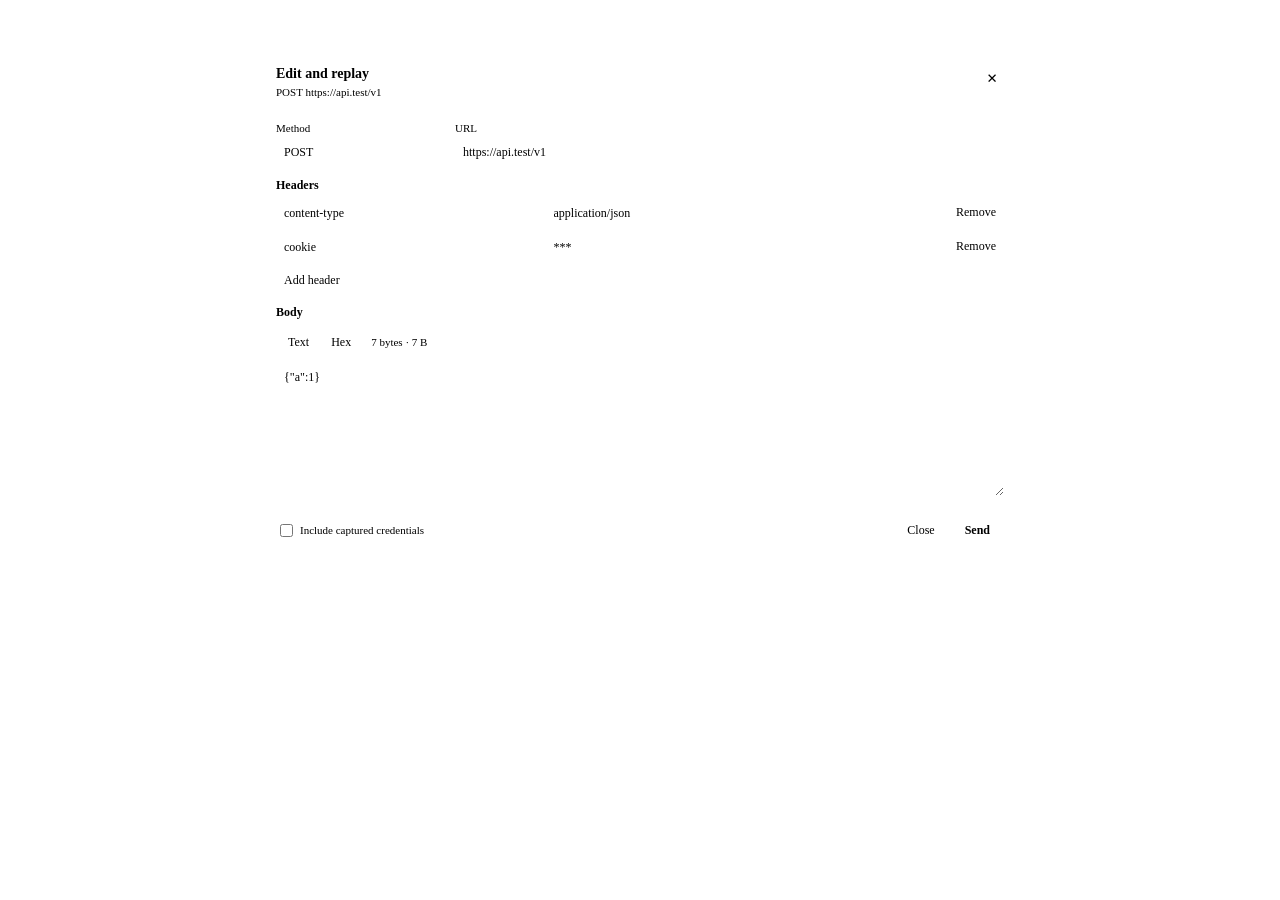
Test: ReplayEditor › sends the edited fields as overrides and reports the outcome
Replace the text in the field named "Header 1 value" with "text/plain" at [744, 213], box x1=546 y1=199 x2=942 y2=227
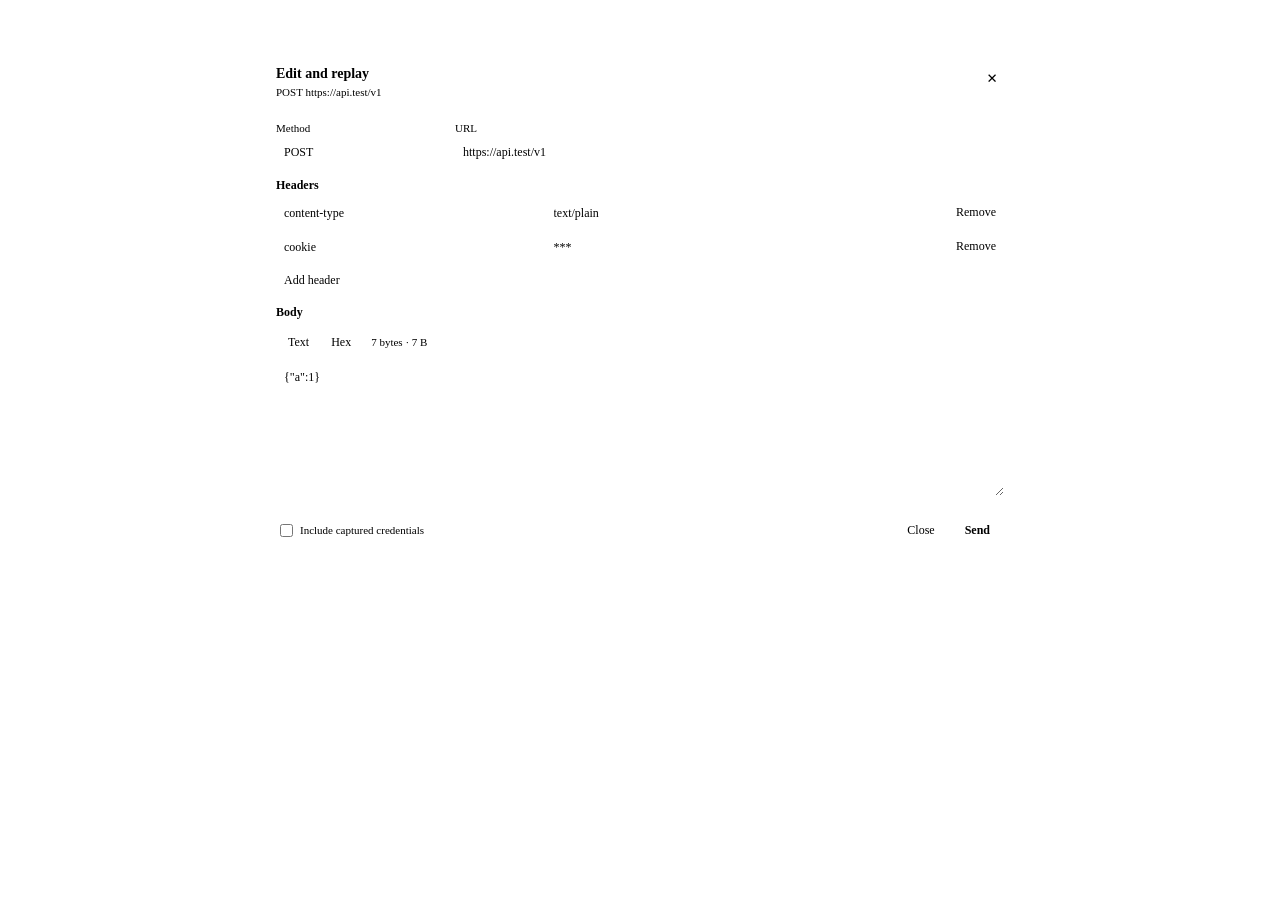
Click the button with aria-label "Remove header cookie" at [976, 246], box x1=948 y1=233 x2=1004 y2=259
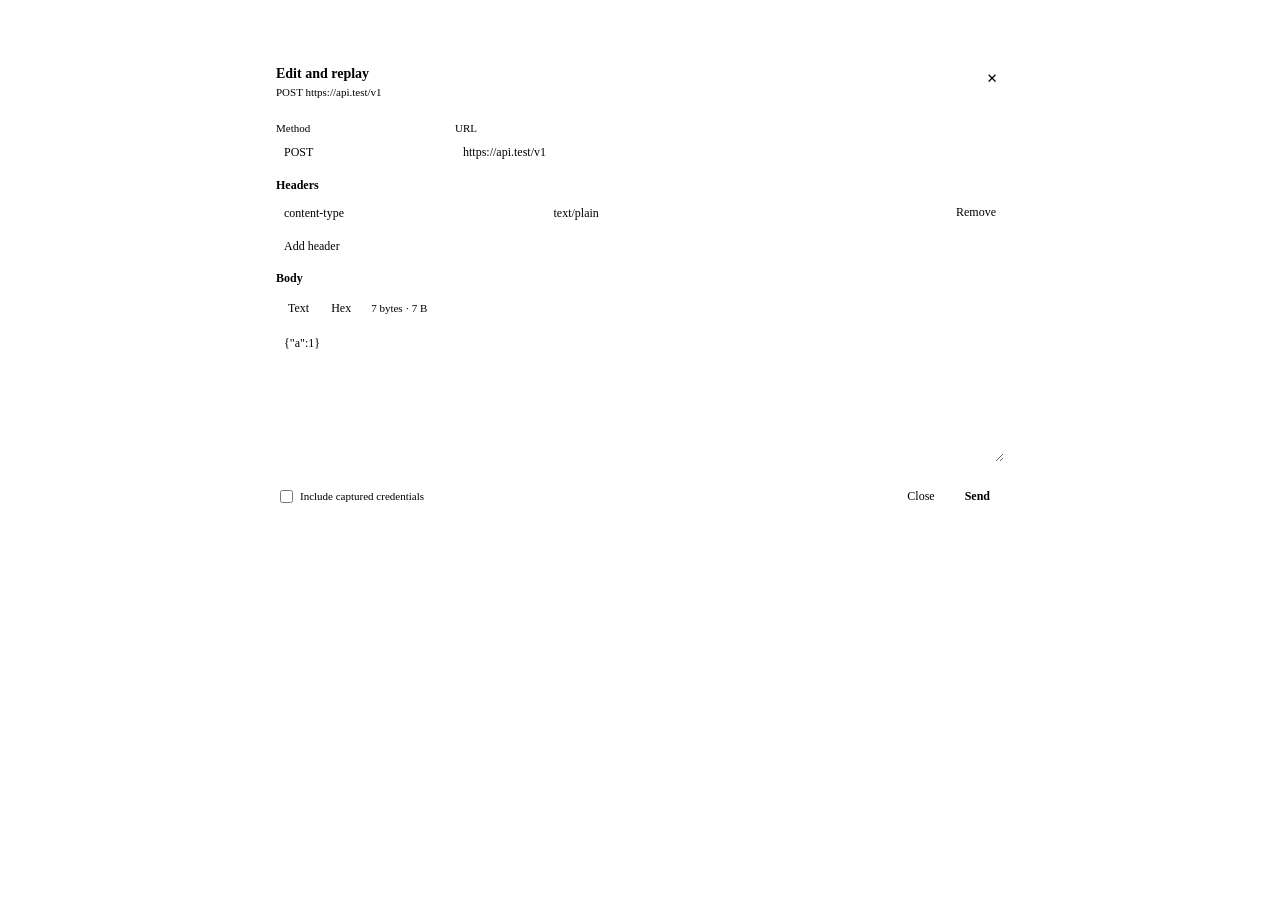
Replace the text in the text box named "Request body text" with "hello" at [640, 396], box x1=276 y1=330 x2=1004 y2=462
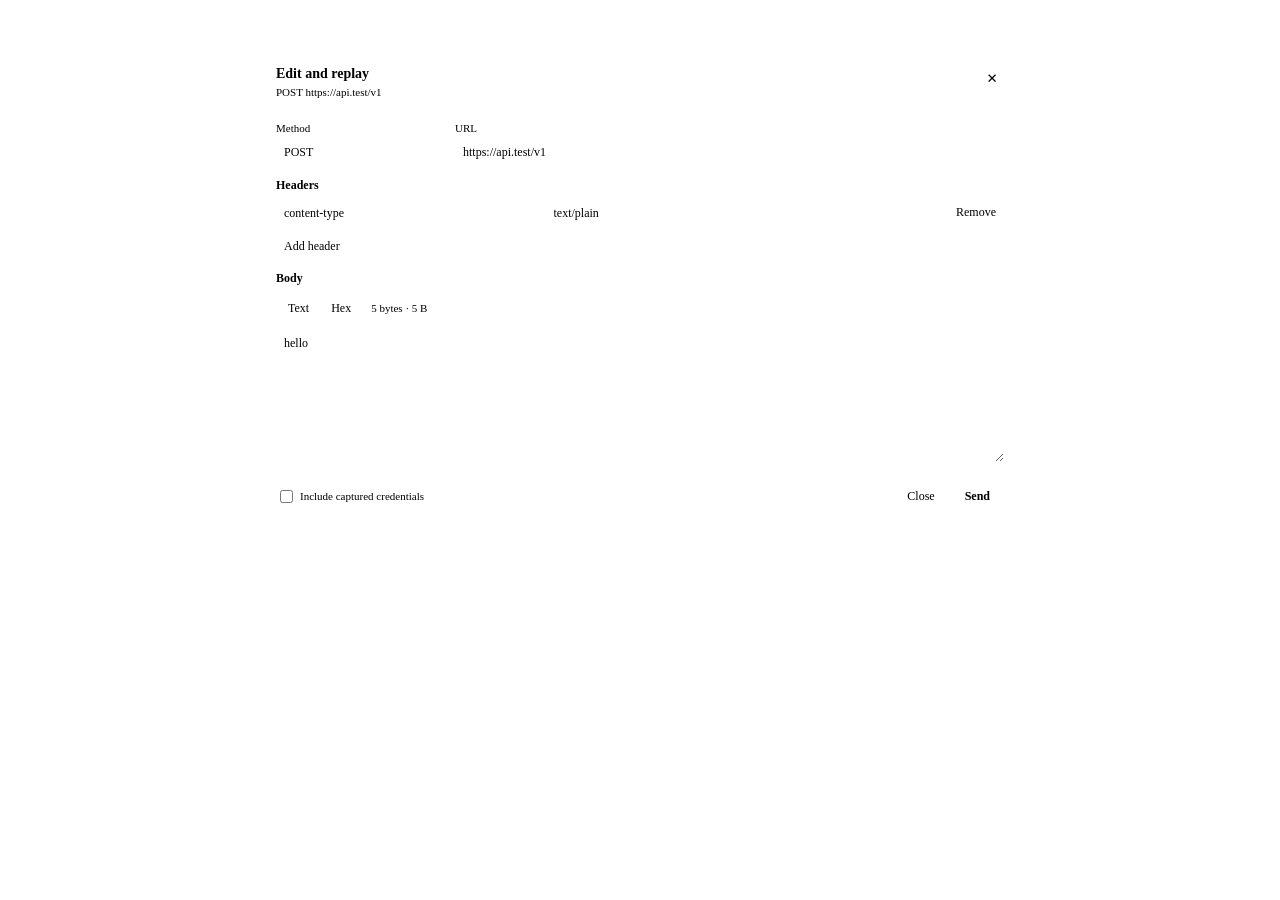
Result: the text with test id "replay-byte-count" shows "5 bytes" at x1=371 y1=302 x2=427 y2=314
Click the button "Send" at [977, 496], box x1=951 y1=482 x2=1004 y2=510
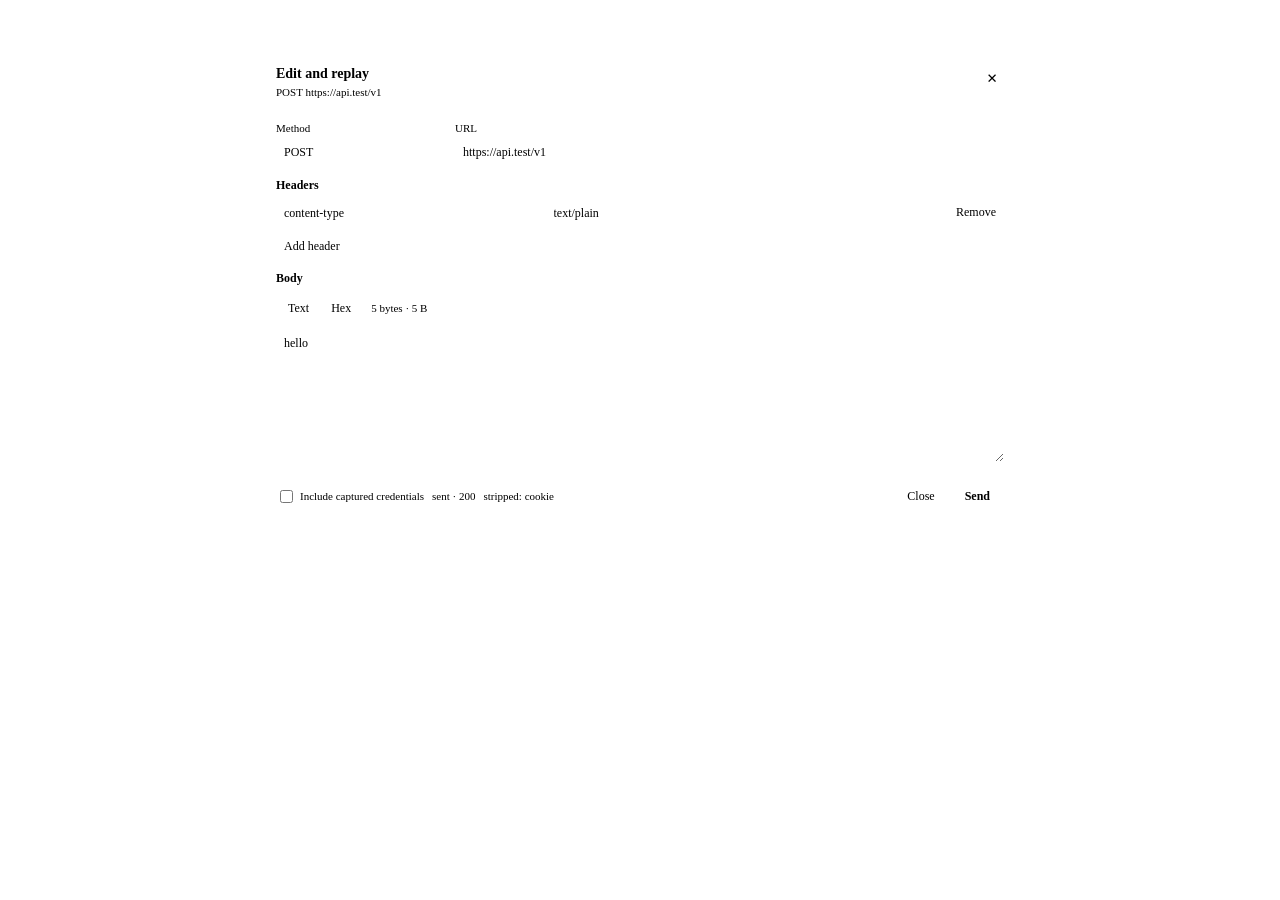
Result: the message shows "stripped: cookie" at x1=483 y1=490 x2=554 y2=502
